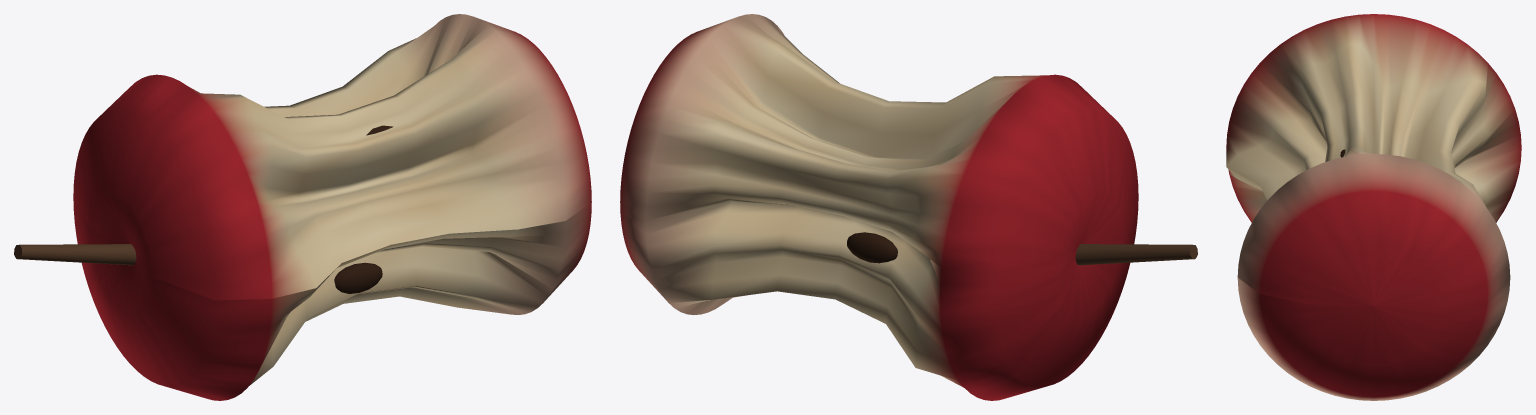
The model's file is apple.glb.
The picture shows the model from 3 angles, left to right: view 1: azimuth 30°, elevation 25°; view 2: azimuth 150°, elevation 25°; view 3: azimuth 270°, elevation 25°; orthographic projection. The views are drawn at different scales.
Visible parts, largest first — view 1: apple-core, apple-stem, apple-seed-1; view 2: apple-core, apple-stem, apple-seed-2; view 3: apple-core.
Boxes of the visible parts, x1,y1,x2,y2 form: apple-core: [73, 14, 591, 400]; apple-stem: [14, 244, 136, 265]; apple-seed-1: [334, 262, 382, 293]; apple-core: [620, 14, 1138, 400]; apple-stem: [1075, 244, 1197, 265]; apple-seed-2: [847, 232, 897, 263]; apple-core: [1226, 14, 1521, 400].
Size of the model in its own units: 0.097 by 0.052 by 0.052.
